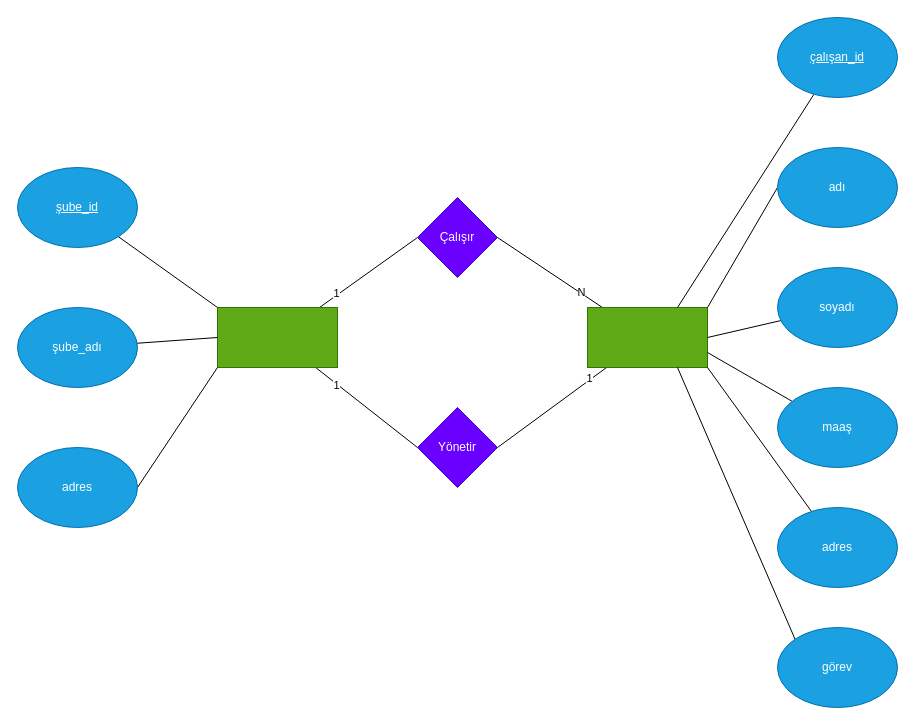
Image size: 915x725. Some labels were removed from this diagram. Here are the shapes that lost their labels. From the top down, the centre of each, then its label:
the point at 277,337: Şube
the point at 647,337: Çalışan
